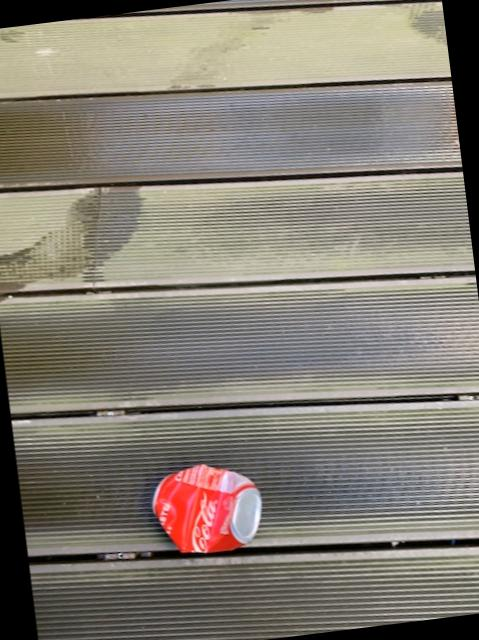metal: (152, 462, 260, 551)
